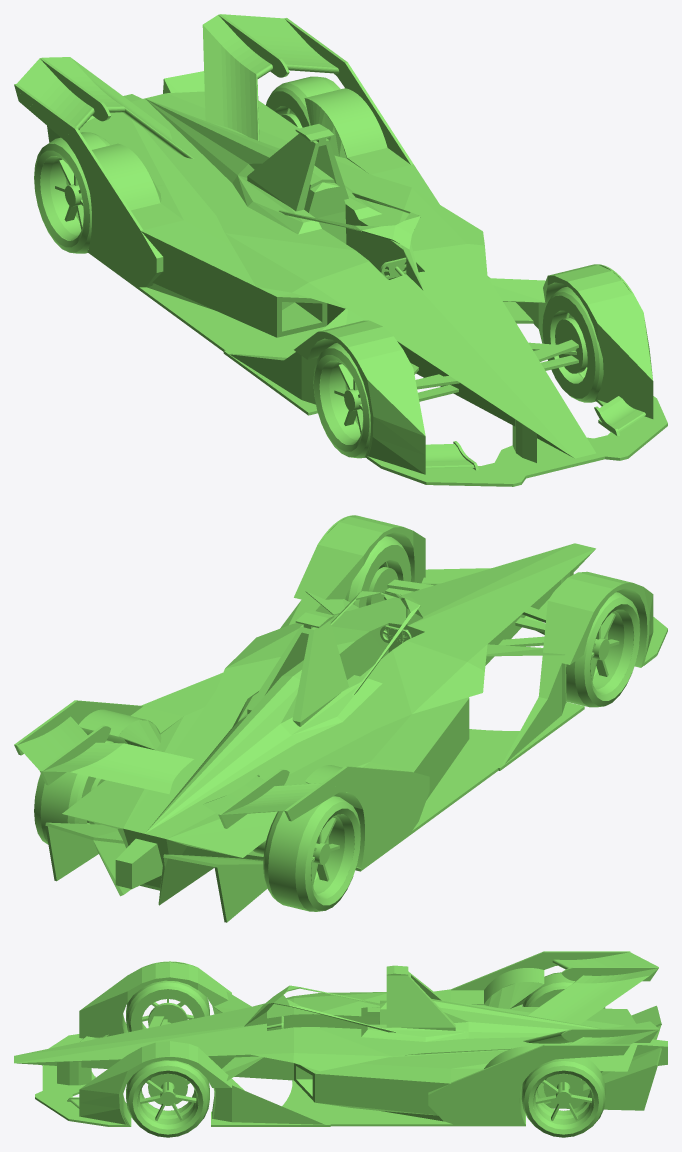
Rendered from gen3evo.glb.
The picture shows the model from 3 angles, top to bottom: view 1: azimuth 30°, elevation 25°; view 2: azimuth 150°, elevation 25°; view 3: azimuth 270°, elevation 25°; orthographic projection. The views are drawn at different scales.
Visible parts, largest first — view 1: gen3evo; view 2: gen3evo; view 3: gen3evo.
Boxes of the visible parts, x1,y1,x2,y2 form: gen3evo: (14, 14, 667, 486); gen3evo: (14, 515, 667, 922); gen3evo: (14, 951, 667, 1137).
Bounding box in the file's own units: 1.99 × 1.2 × 5.76.
